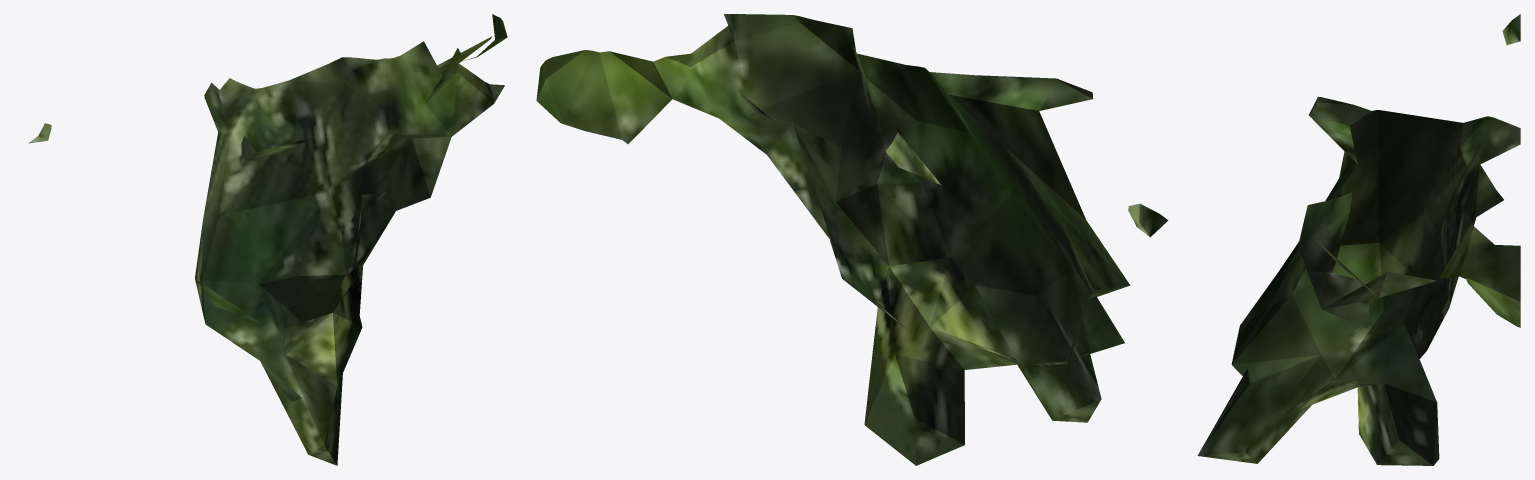
The picture shows the model from 3 angles, left to right: view 1: azimuth 30°, elevation 25°; view 2: azimuth 150°, elevation 25°; view 3: azimuth 270°, elevation 25°; orthographic projection. The views are drawn at different scales.
Size of the model in its own units: 10.5 by 5.86 by 5.12.
1 material, 1 textured.
